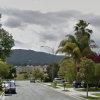Tree: (50, 11, 100, 72)
